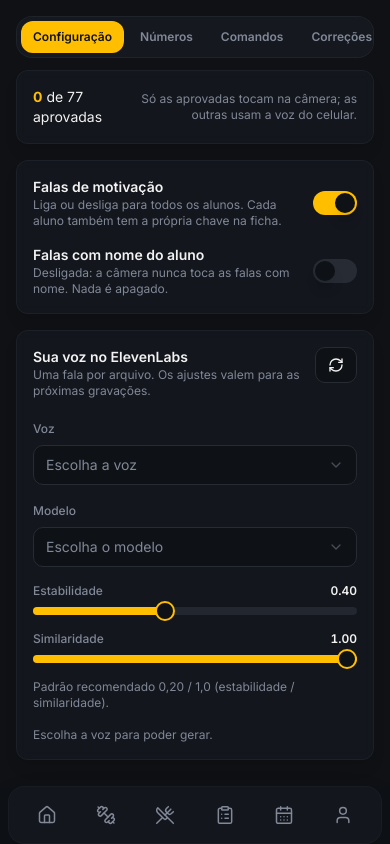
Voz da Correção ao vivo — tela do admin › lembra a última aba aberta e mostra as correções por exercício
This screenshot has width=390, height=844.
Expected: the element with test id "coach-voice-counter" is shown, [33, 87, 109, 127]
Press the mouse on the tab with test id "coach-voice-tab-correcoes" at (342, 37), box [299, 21, 384, 53]
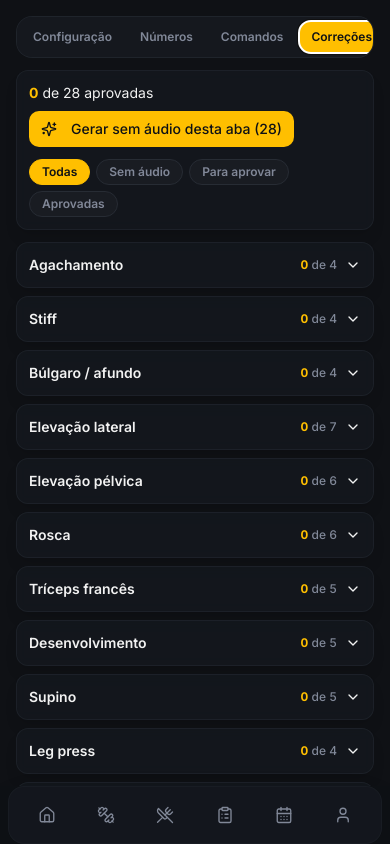
Result: the element with test id "coach-voice-group-squat" is shown at [16, 242, 374, 288]
Result: the element with test id "coach-voice-group-plank" is shown at [16, 782, 374, 828]
